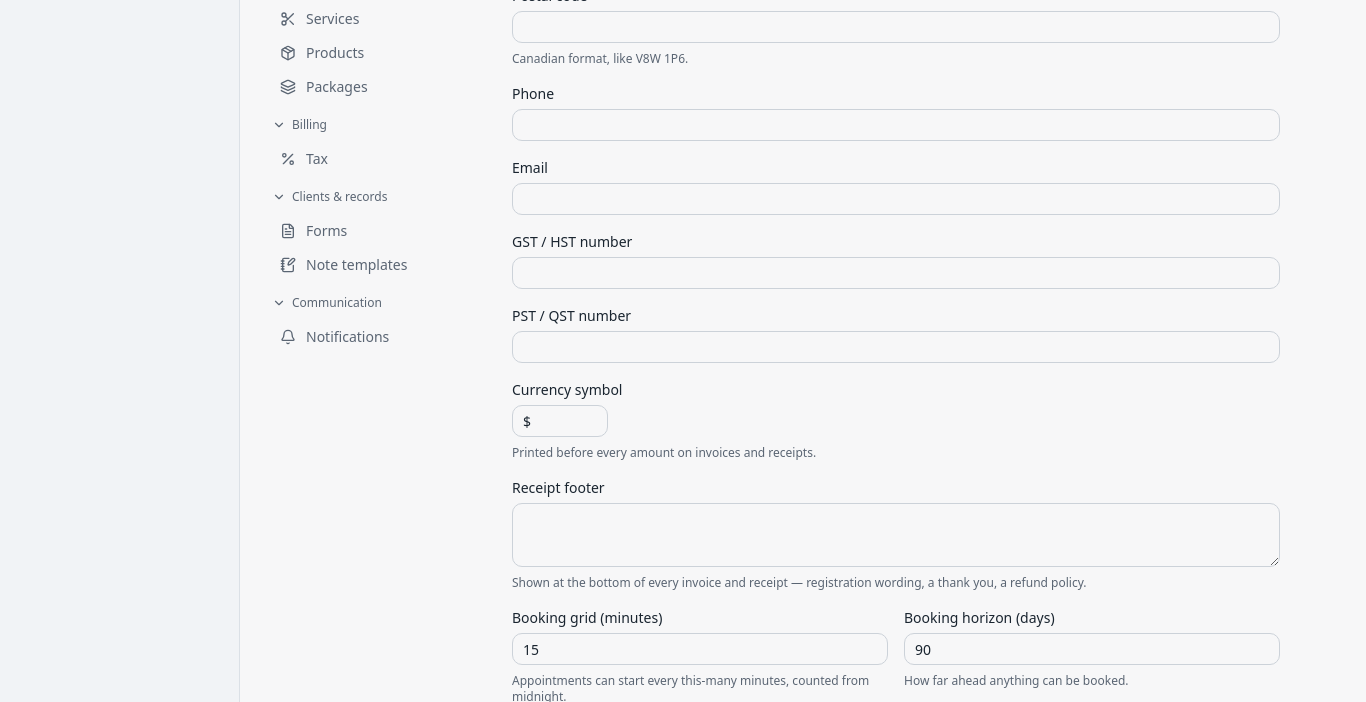
Test case: choosing Resend and saving sends the whole form, including the new key
(page scrolled)
Click the button "Notifications". click: {"x": 380, "y": 337}
box: [272,321,488,353]
(page scrolled)
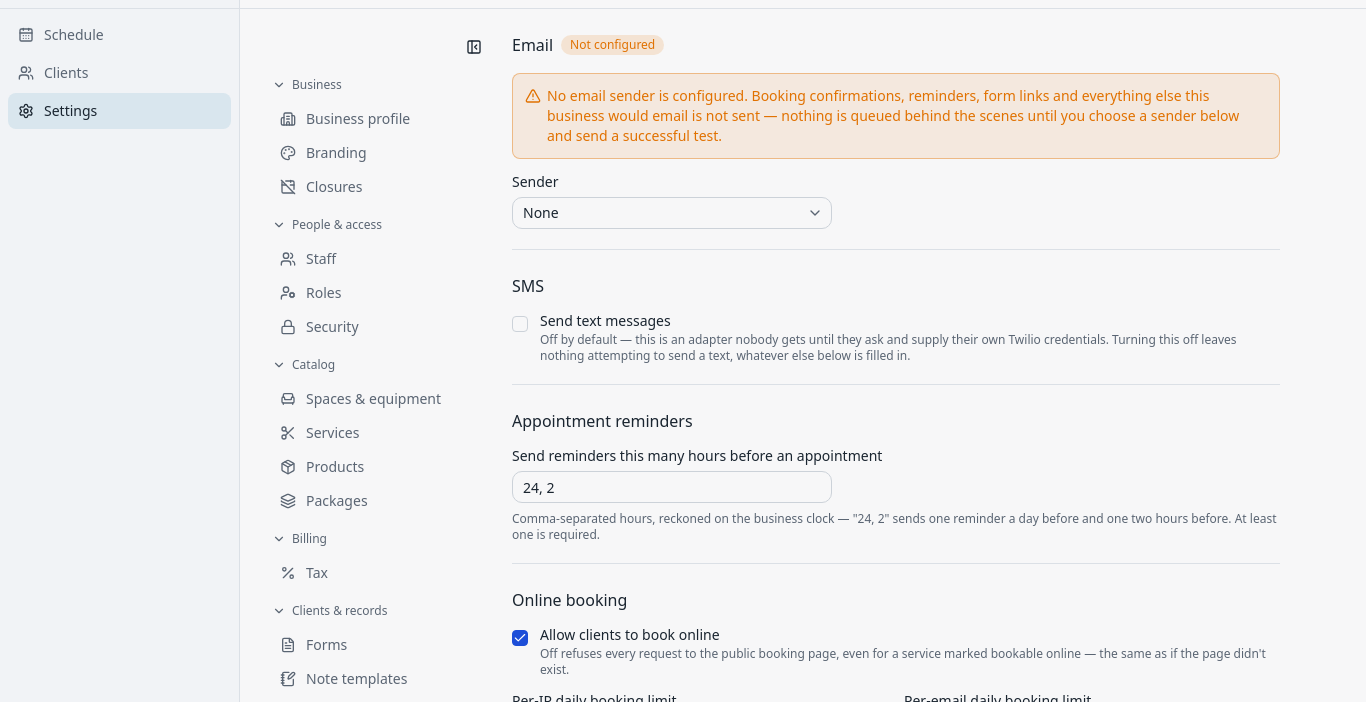
Click the dropdown named "Sender". click: {"x": 541, "y": 212}
box: [512,197,832,229]
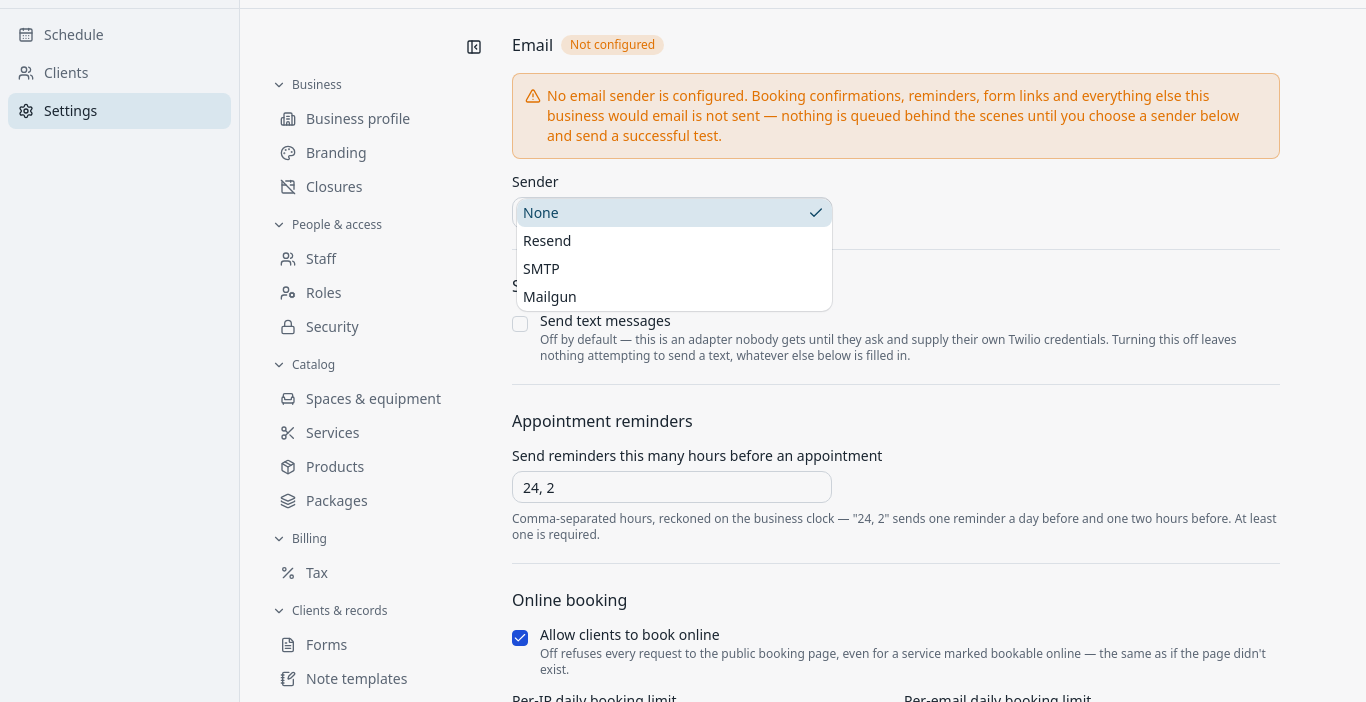
Click the option "Resend". click: {"x": 547, "y": 240}
box: [523,231,572,250]
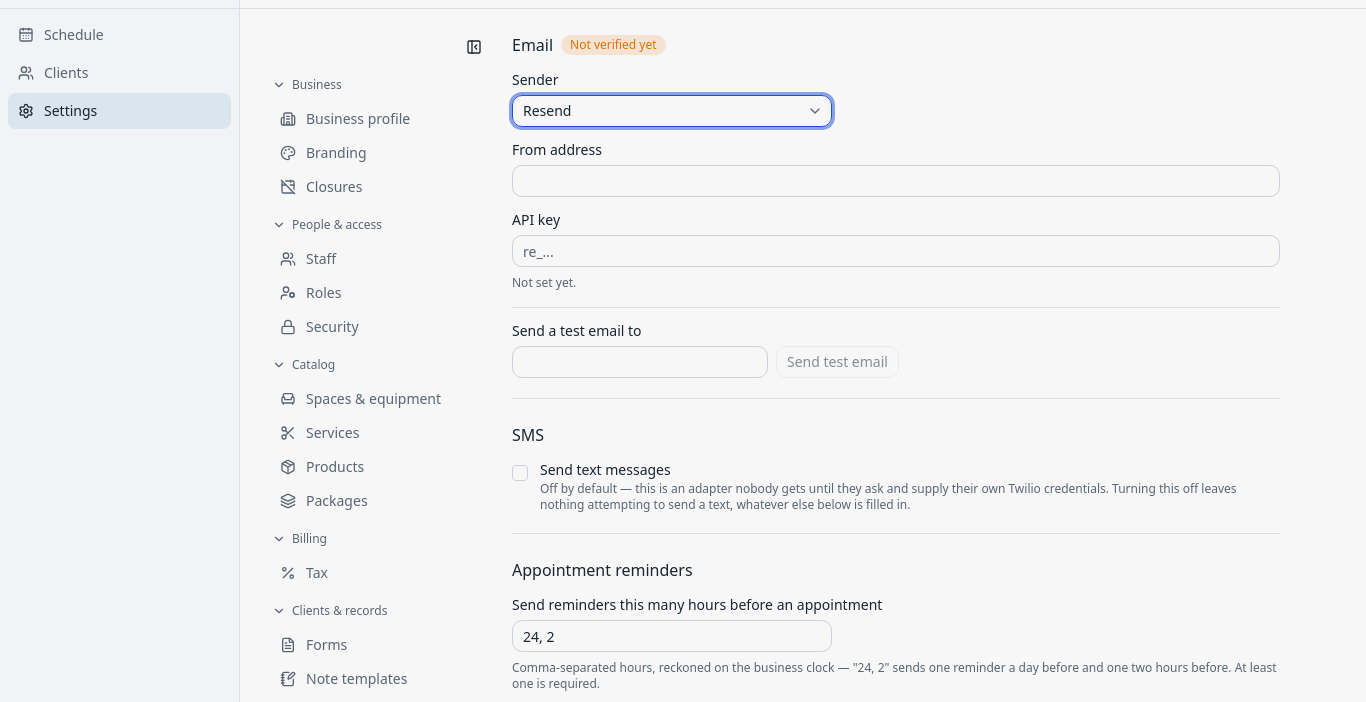
Type "hello@cedar.example" into the field labelled "From address". click: {"x": 896, "y": 181}
box: [512,165,1280,197]
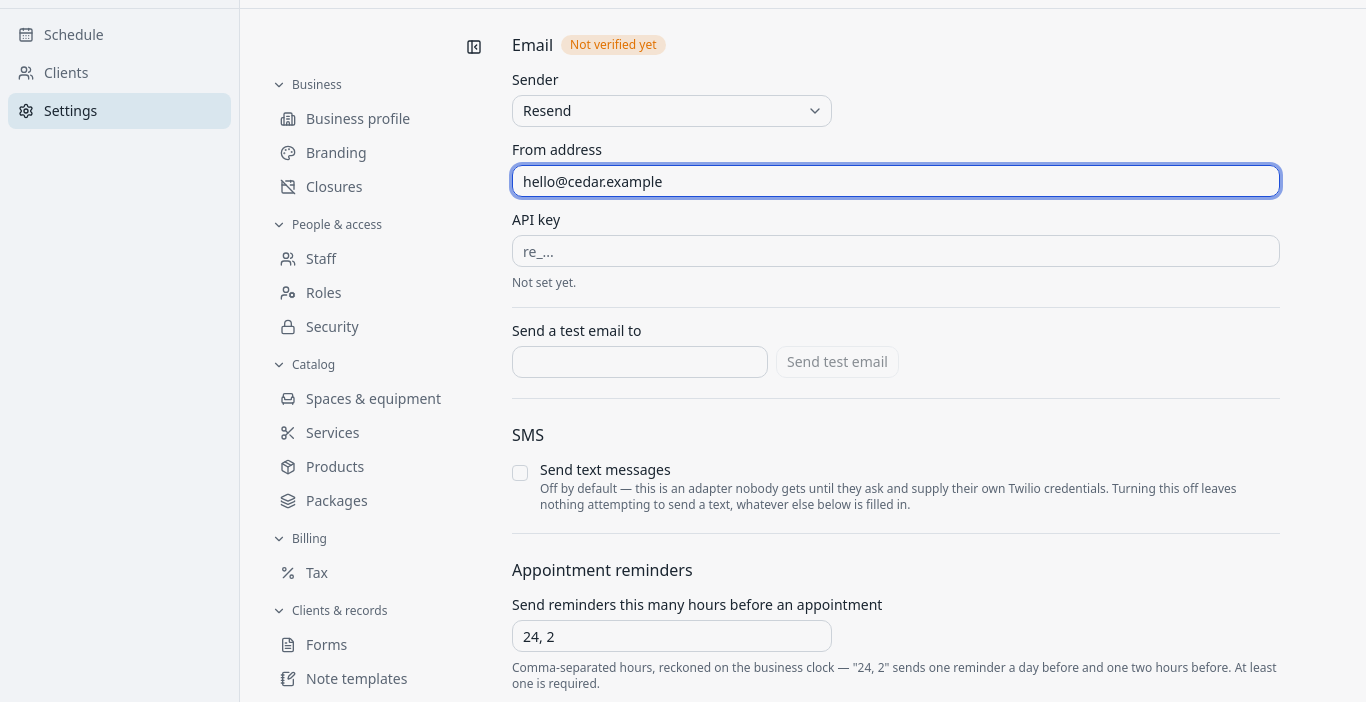
Type "re_live_key" into the password field labelled "API key". click: {"x": 896, "y": 251}
box: [512,235,1280,267]
(page scrolled)
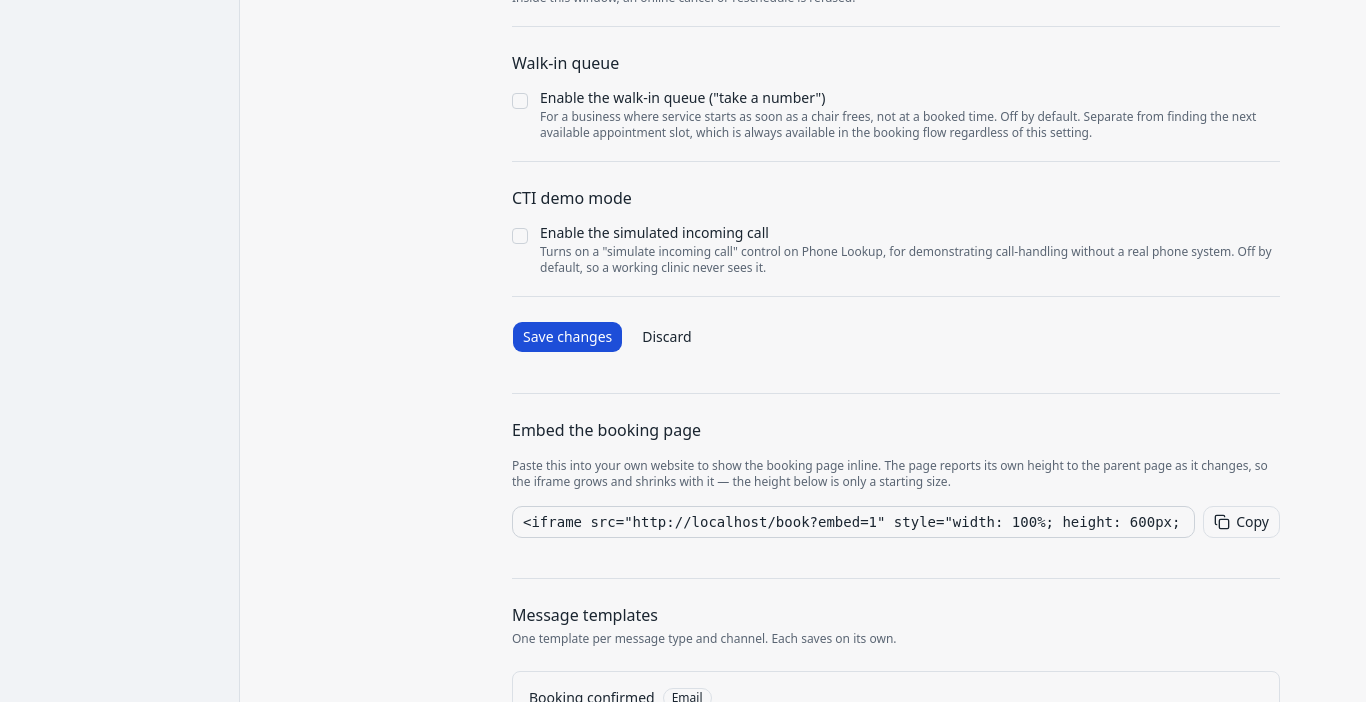
Click the button "Save changes". click: {"x": 568, "y": 337}
box: [512,321,623,353]
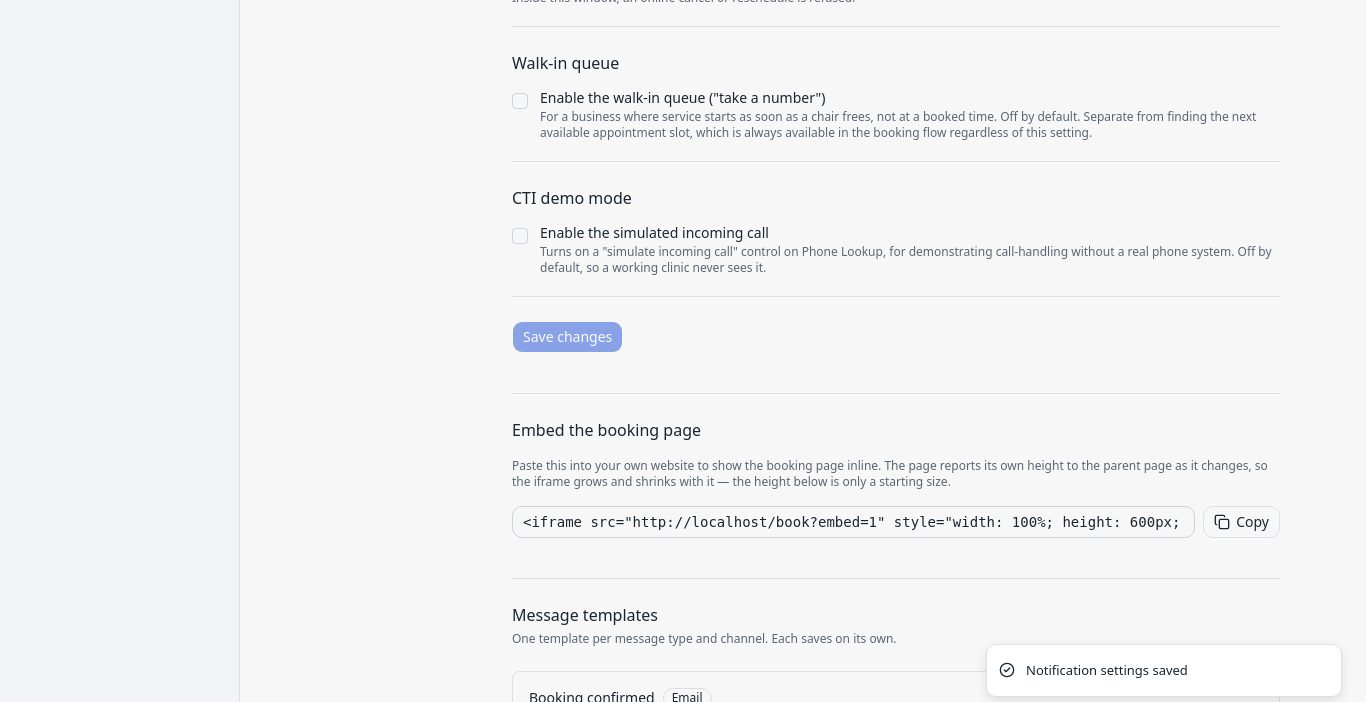
Result: the text "Notification settings saved" is shown at [1026,660,1188,680]
